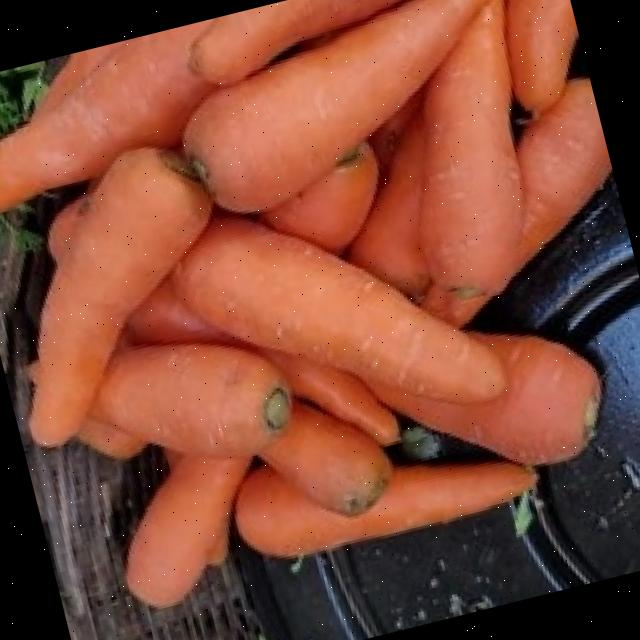carrot: (0, 0, 613, 607)
